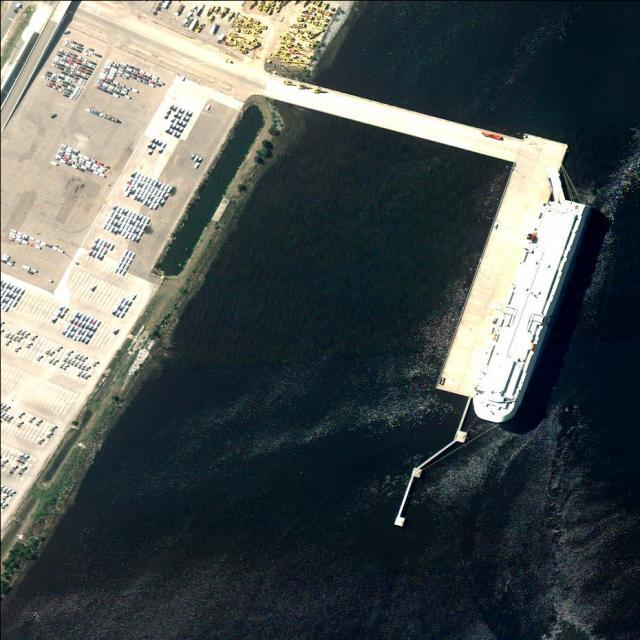Dock: (435, 129, 570, 404)
RoRo: (466, 189, 593, 434)
